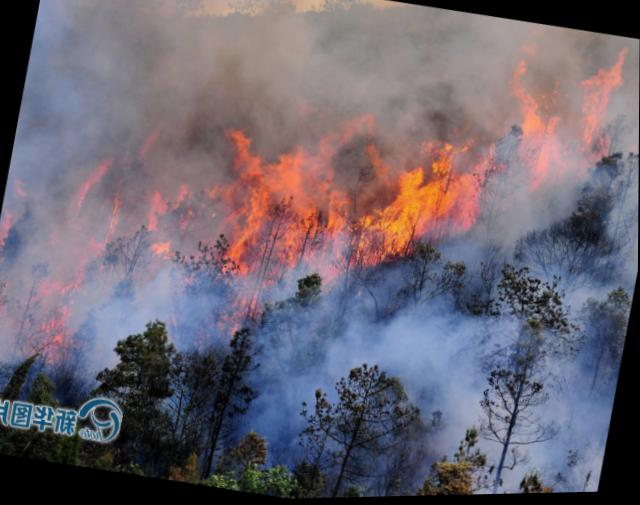fire: (238, 146, 333, 210), (382, 170, 442, 264), (576, 54, 626, 149), (440, 156, 495, 239), (221, 193, 270, 277), (518, 108, 565, 171), (275, 205, 309, 269), (355, 207, 389, 266), (327, 186, 353, 238)
